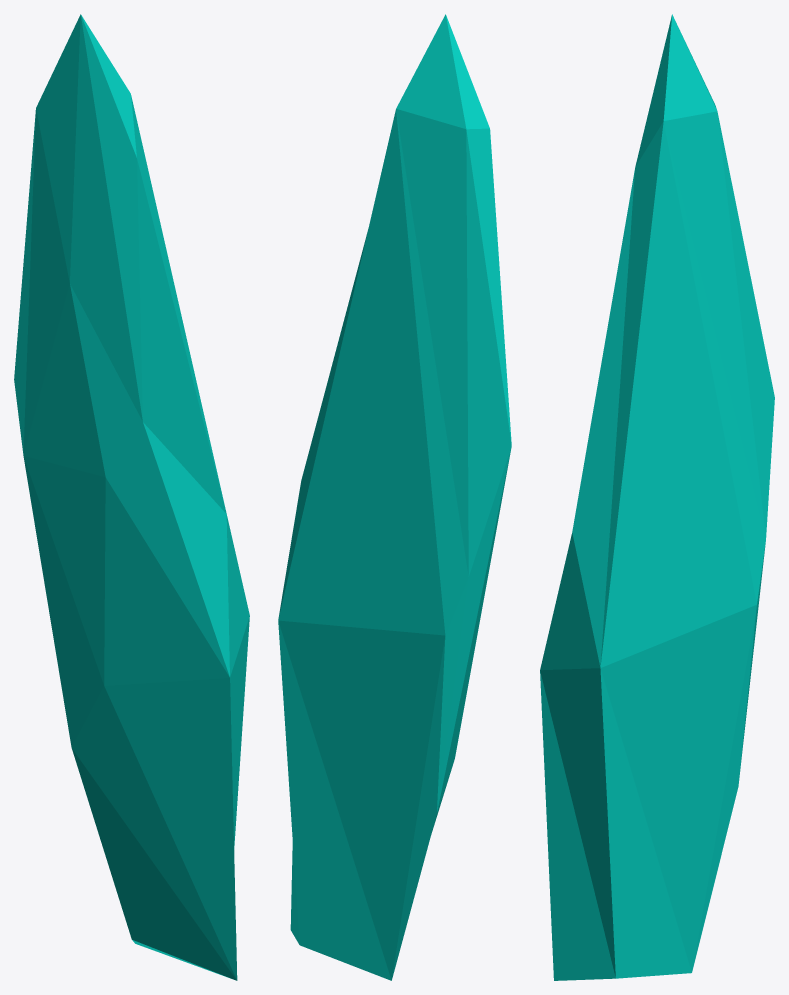
File: Cristal1.obj
3 views of the same model, side by side, from view 1: azimuth 30°, elevation 25°; view 2: azimuth 210°, elevation 25°; view 3: azimuth 270°, elevation 25° (orthographic). The views are drawn at different scales.
Visible parts, largest first — view 1: cristaux:Group63897; view 2: cristaux:Group63897; view 3: cristaux:Group63897.
Boxes of the visible parts, x1,y1,x2,y2 form: cristaux:Group63897: [14, 14, 249, 980]; cristaux:Group63897: [278, 14, 511, 980]; cristaux:Group63897: [540, 14, 774, 980].
Bounding box in the file's own units: 1.76 × 10.08 × 2.31.
